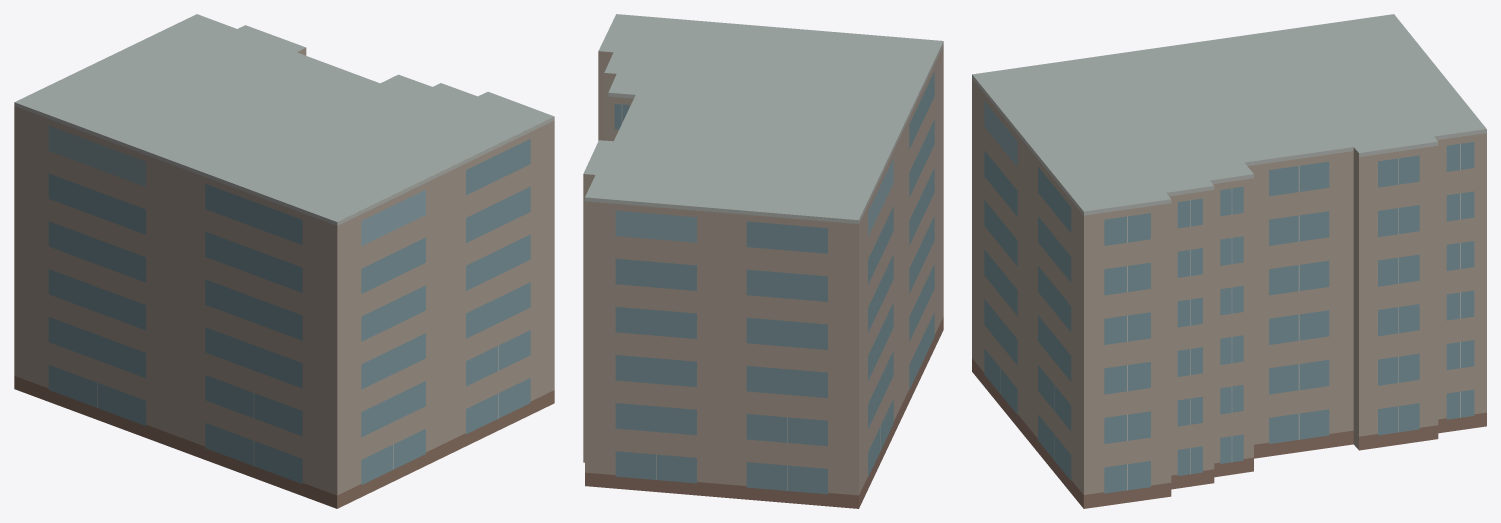
The model's file is survey-upis-32792063.glb.
The picture shows the model from 3 angles, left to right: view 1: azimuth 30°, elevation 25°; view 2: azimuth 150°, elevation 25°; view 3: azimuth 270°, elevation 25°; orthographic projection. The views are drawn at different scales.
Visible parts, largest first — view 1: survey-upis-32792063.tmp; view 2: survey-upis-32792063.tmp; view 3: survey-upis-32792063.tmp.
Boxes of the visible parts, x1,y1,x2,y2 form: survey-upis-32792063.tmp: [14, 14, 554, 508]; survey-upis-32792063.tmp: [583, 14, 943, 508]; survey-upis-32792063.tmp: [972, 14, 1486, 508].
Size of the model in its own units: 25.67 by 18 by 28.26.
